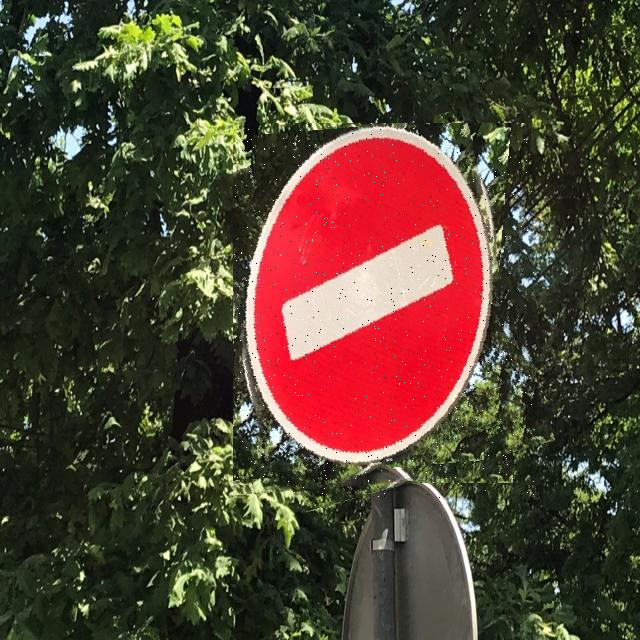no entry: (233, 123, 534, 498)
